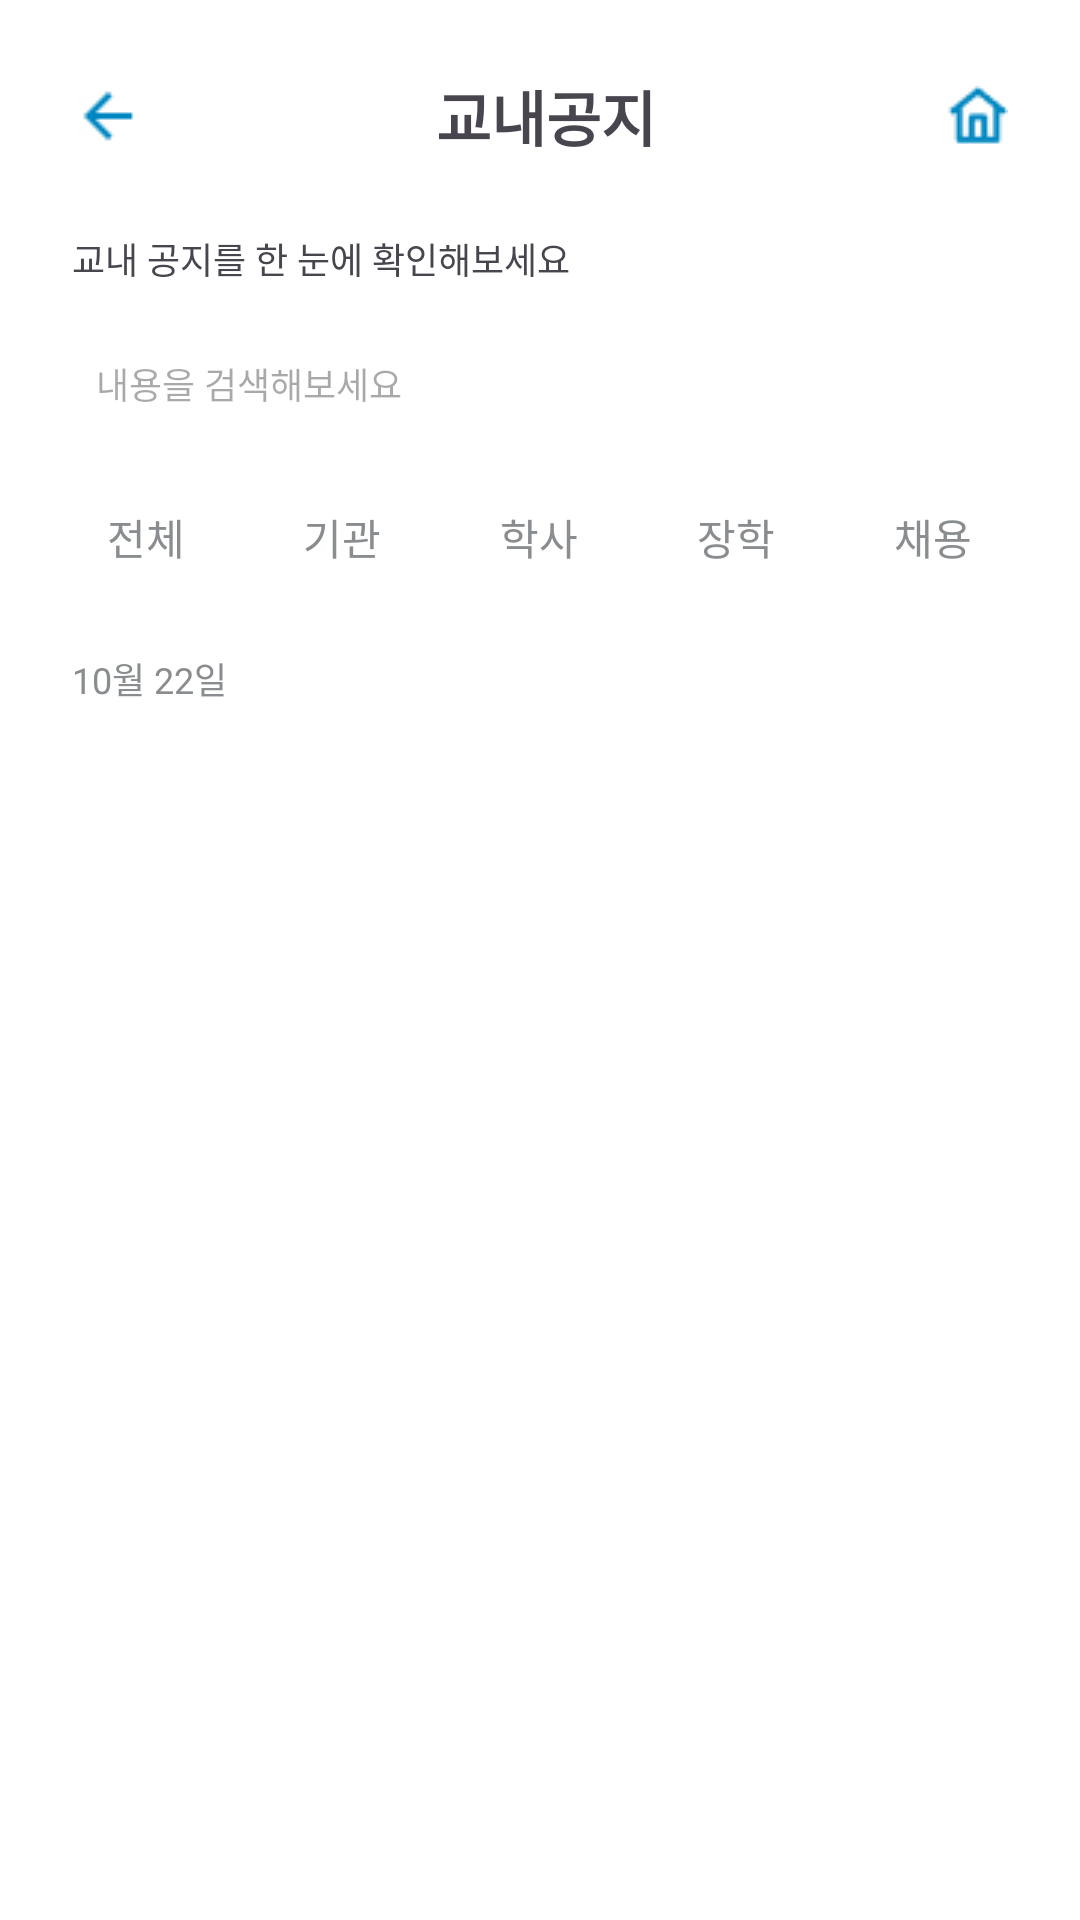

Point at icon controls on the screen. Image size 1080×1920, points as (x,y).
back: (108,116)
home: (978,115)
